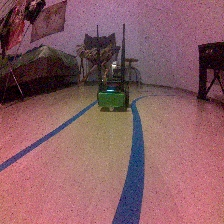rob: (95, 67, 130, 112)
